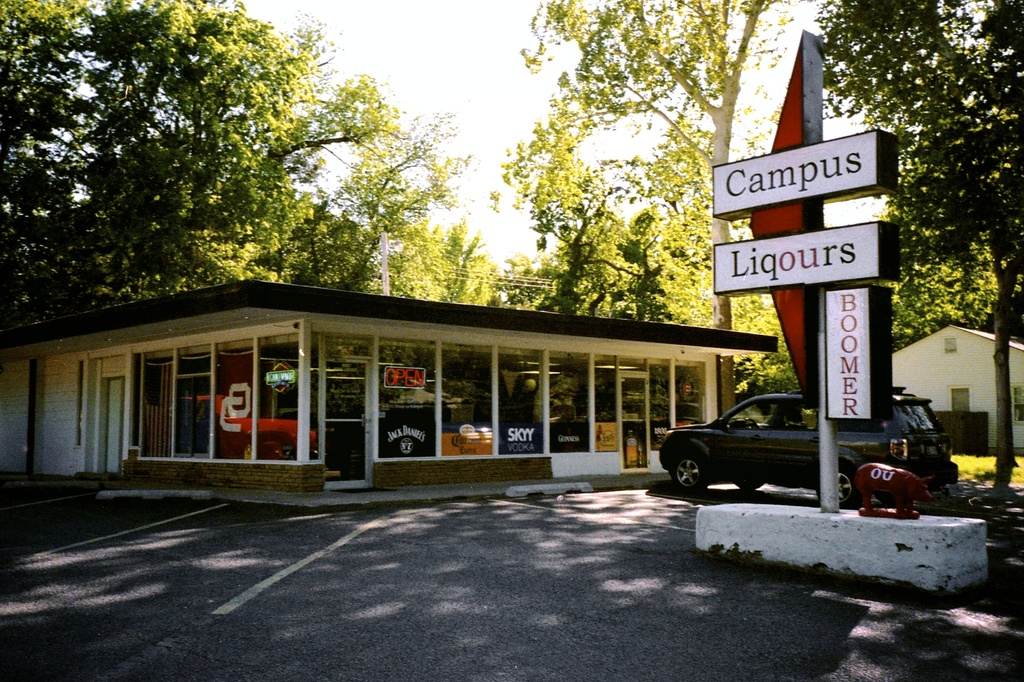Car: (658, 387, 958, 499)
